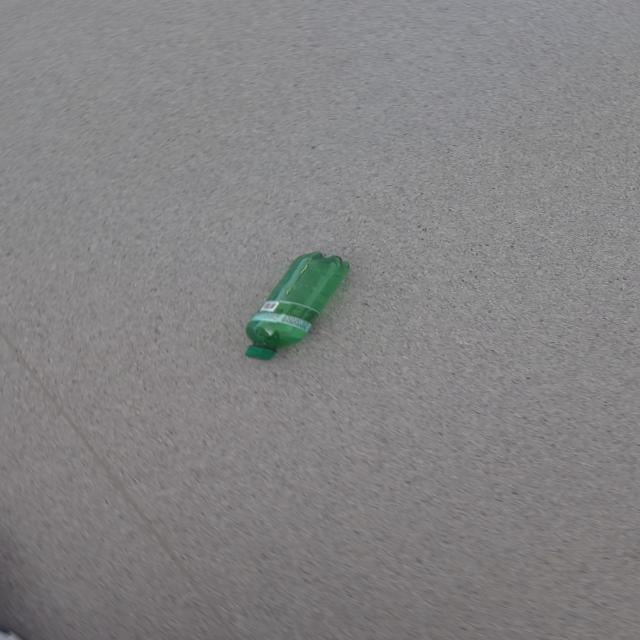bottle: (242, 251, 350, 361)
